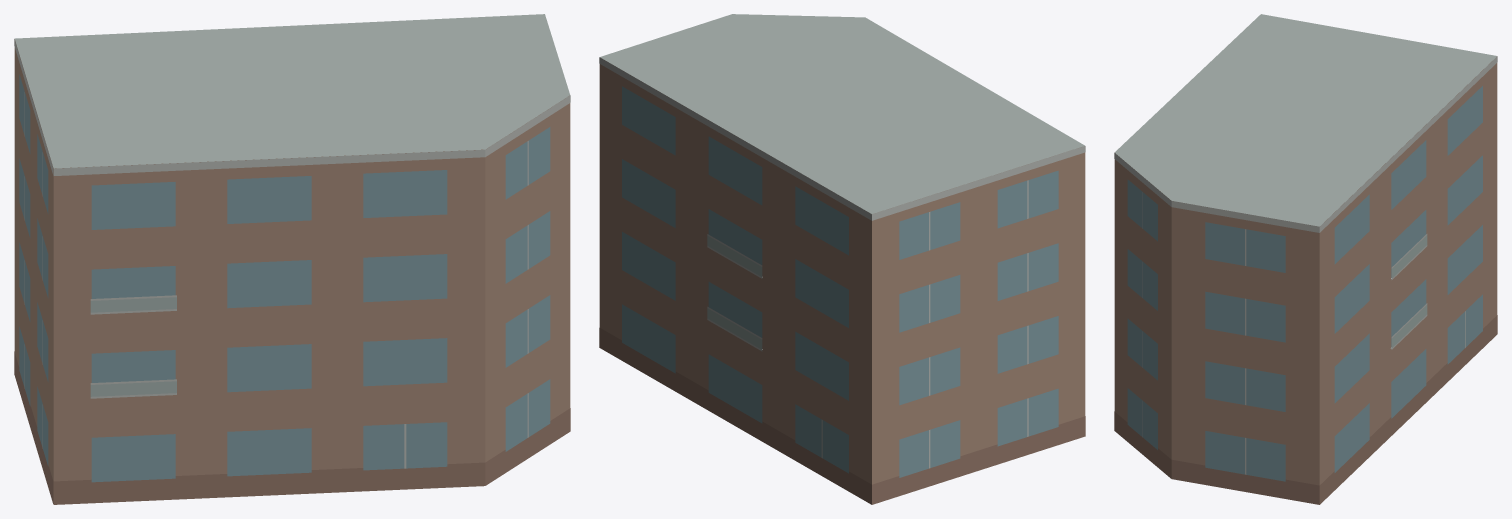
Rendered from survey-upis-32847866.glb.
3 views of the same model, side by side, from view 1: azimuth 30°, elevation 25°; view 2: azimuth 150°, elevation 25°; view 3: azimuth 270°, elevation 25° (orthographic). The views are drawn at different scales.
Parts seen in each view (by area): view 1: survey-upis-32847866.tmp; view 2: survey-upis-32847866.tmp; view 3: survey-upis-32847866.tmp.
Part boxes in pixels (x1,y1,x2,y2): survey-upis-32847866.tmp: (14,14,570,504); survey-upis-32847866.tmp: (599,14,1085,504); survey-upis-32847866.tmp: (1114,14,1497,504).
Size of the model in its own units: 17.55 by 10.7 by 13.36.
